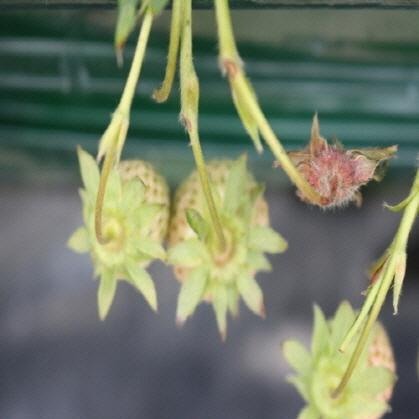Gray Mold: (271, 110, 399, 208)
